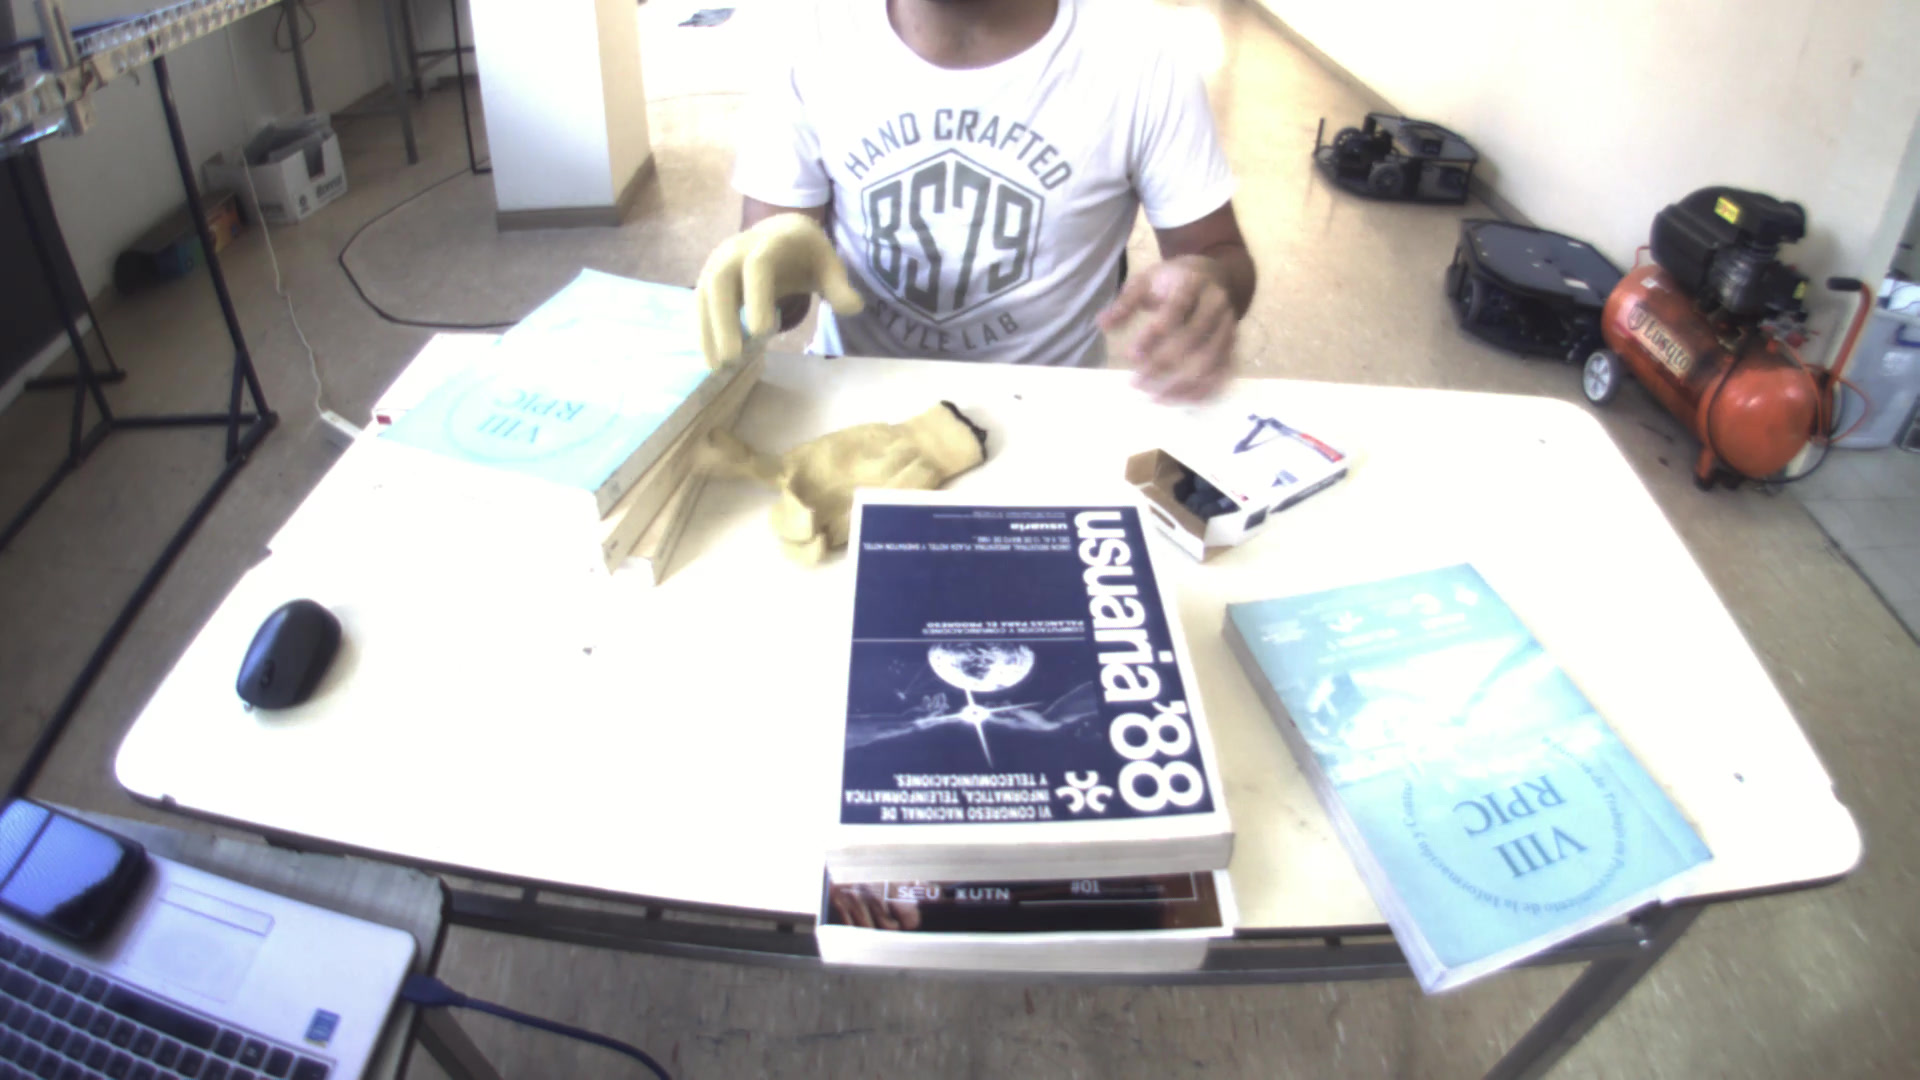hand: (678, 200, 862, 355), (1087, 248, 1263, 398)
